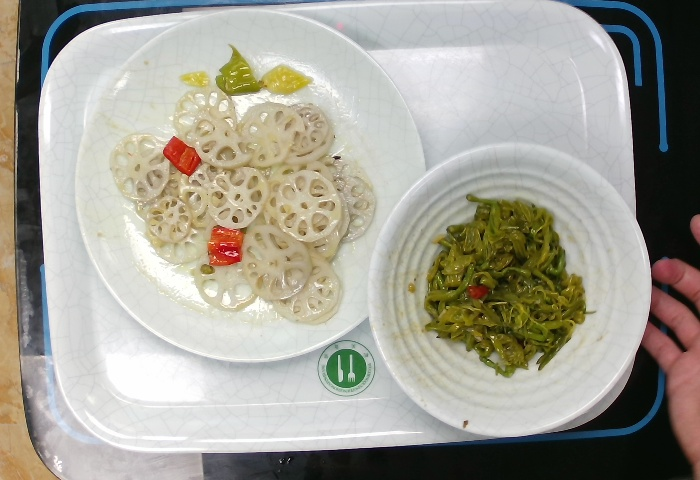JYsf-Da_Yuan_Pan: (74, 3, 433, 369)
JYsf-Xiao_Tang_Wan: (367, 135, 658, 440)
